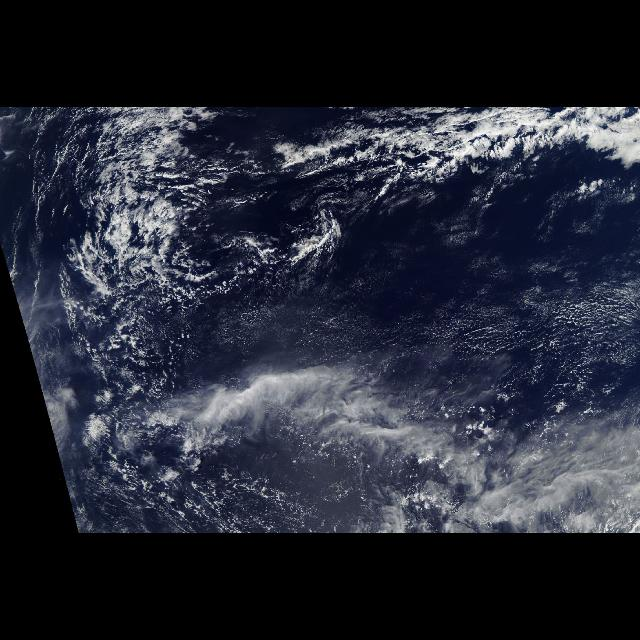Fish: (42, 107, 640, 329)
Gravel: (51, 121, 197, 341)
Sugar: (408, 256, 640, 408)
